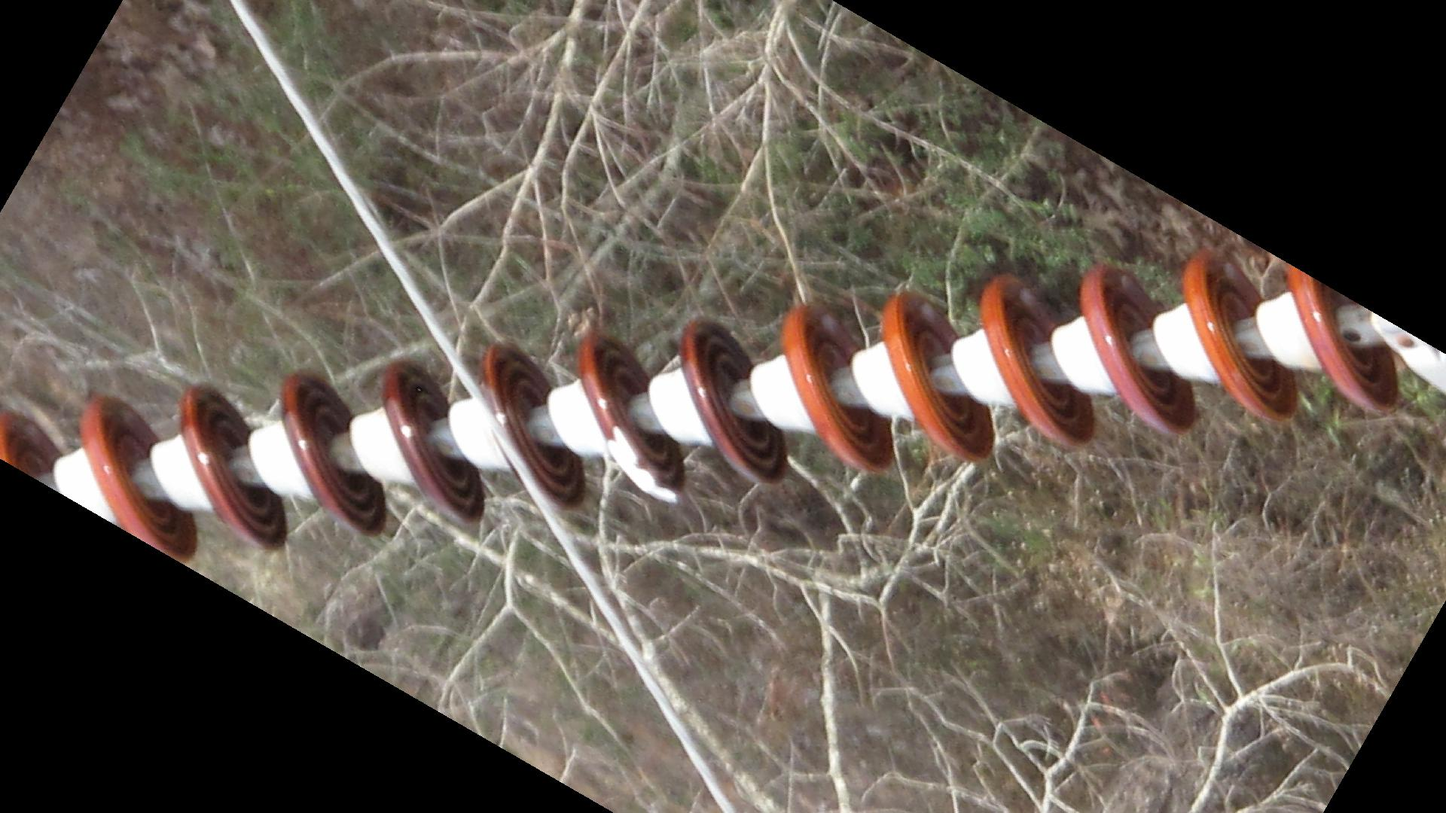insulator: (1, 250, 1414, 572)
insulator_breakage: (597, 416, 688, 513)
